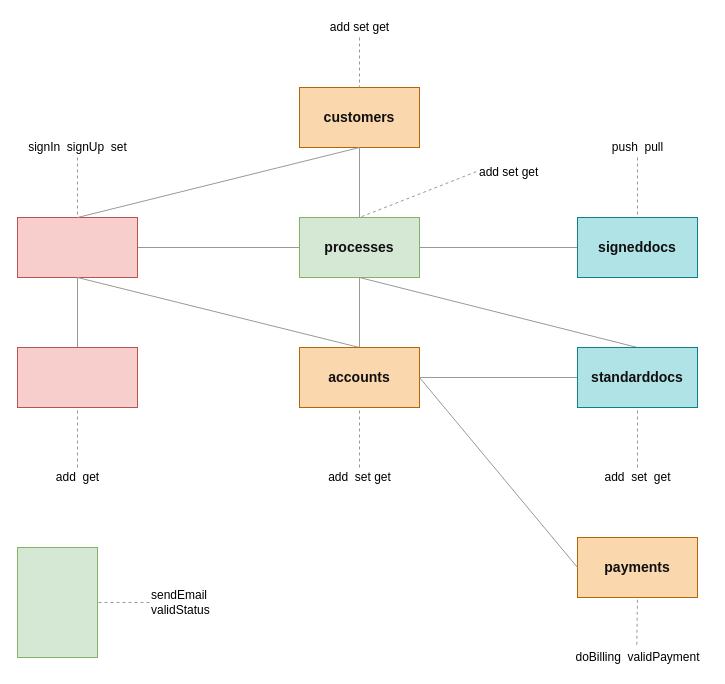
Some shapes in this 725 by 684 pixel diagram are drawn without their labels. Each missing label, with the centre of its shape:
acesses: [77,377]
services: [57,602]
users: [77,247]
